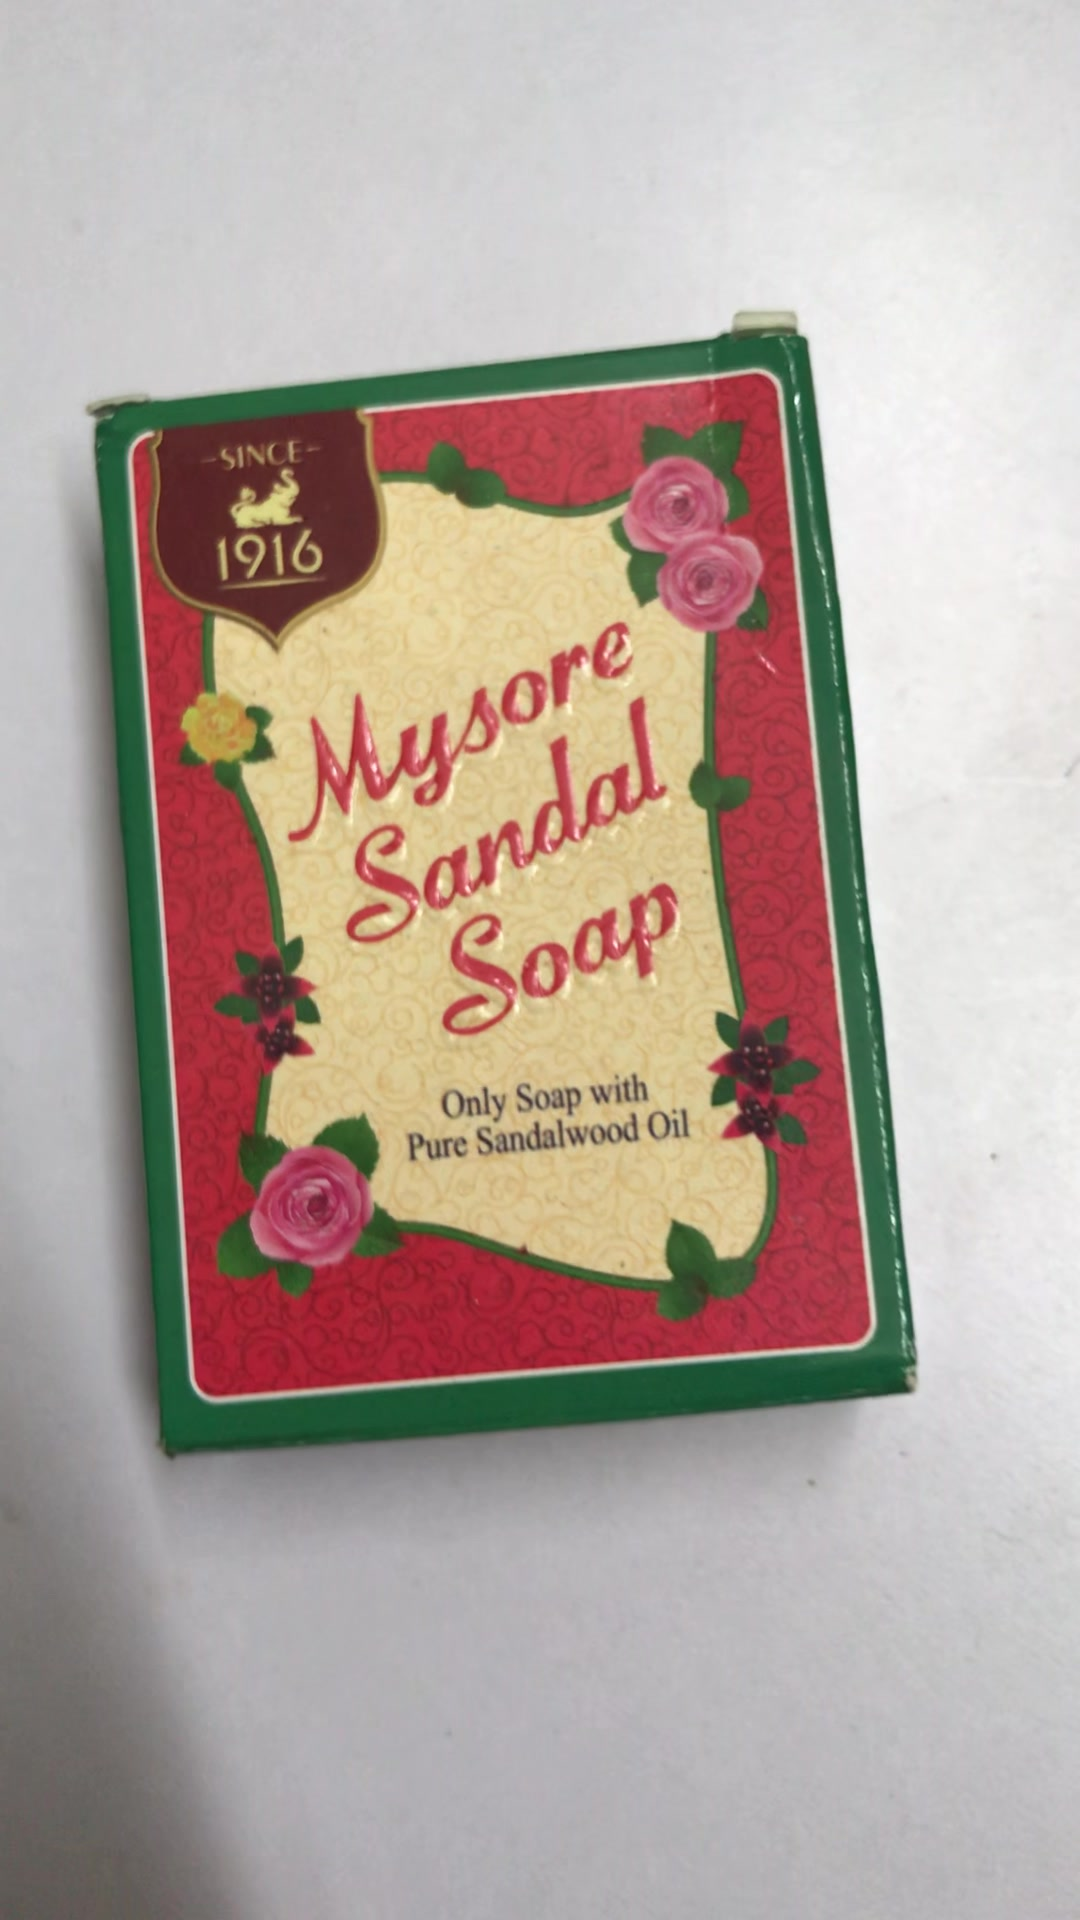mysore sandal soap: (99, 323, 915, 1452)
